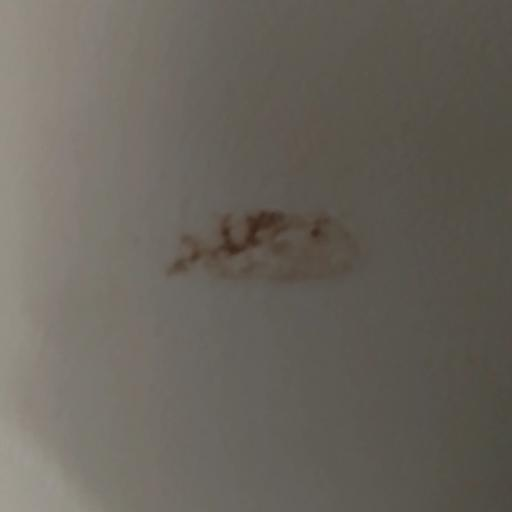stain: (148, 200, 369, 345)
